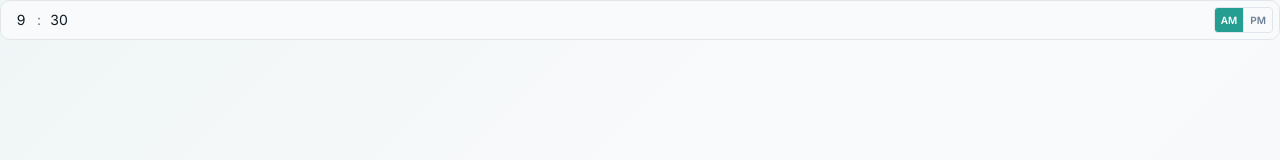
Test: TimePicker12h - backspacing one box › puts the time back if a box is left empty and the cursor moves on
Clear the field named "Hour" at (21, 20), box [7, 10, 35, 30]
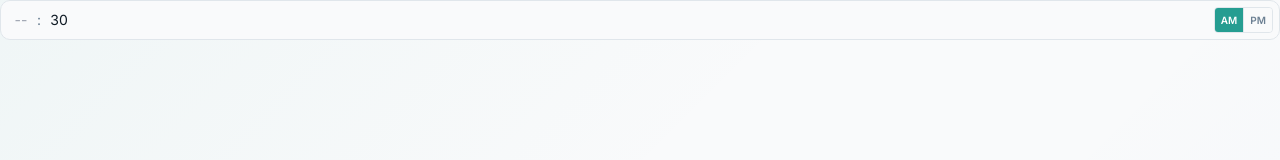
Leave the field named "Hour", box [7, 10, 35, 30]
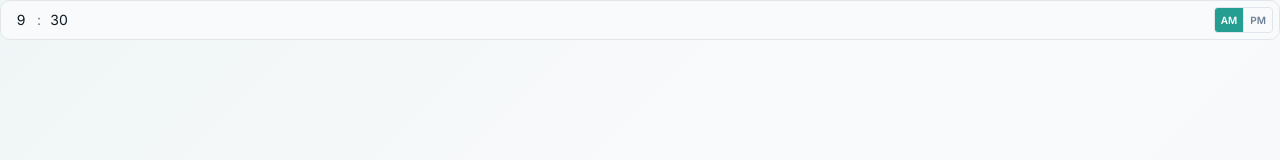
Expected: the field named "Hour" holds "9", [7, 10, 35, 30]
